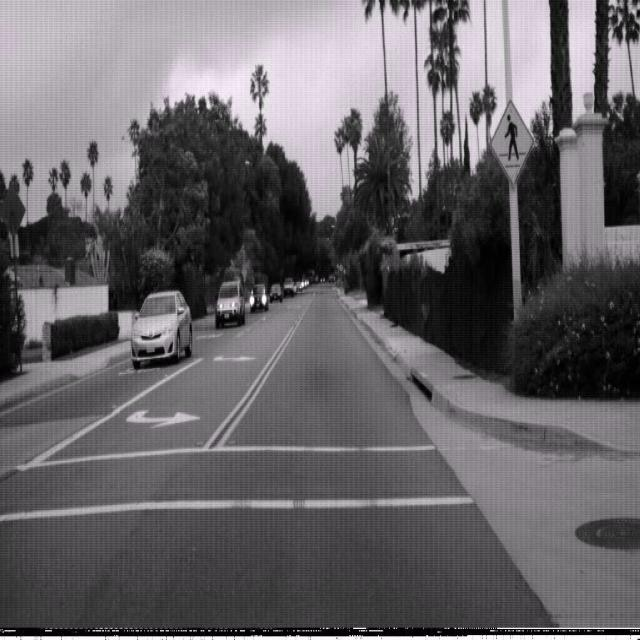pedestrianCrossing: (488, 97, 534, 187)
